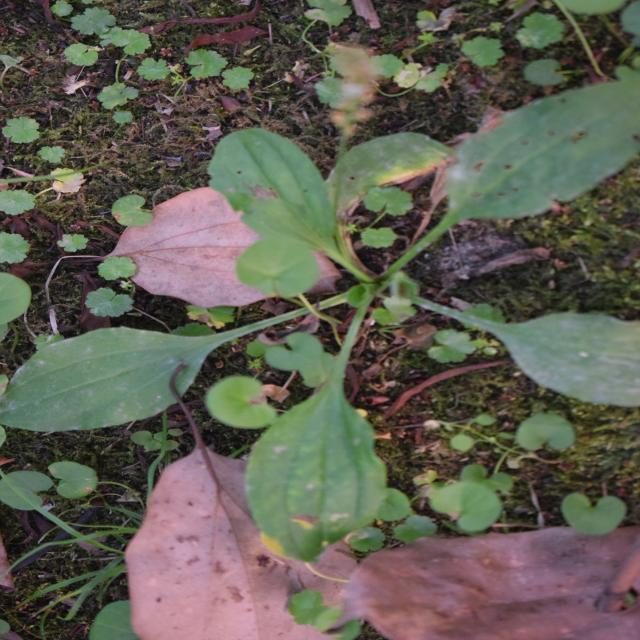plantain: (153, 38, 534, 621)
